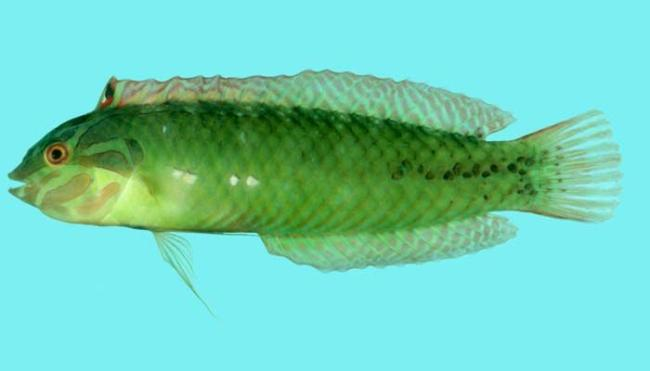fish: (7, 68, 623, 317)
